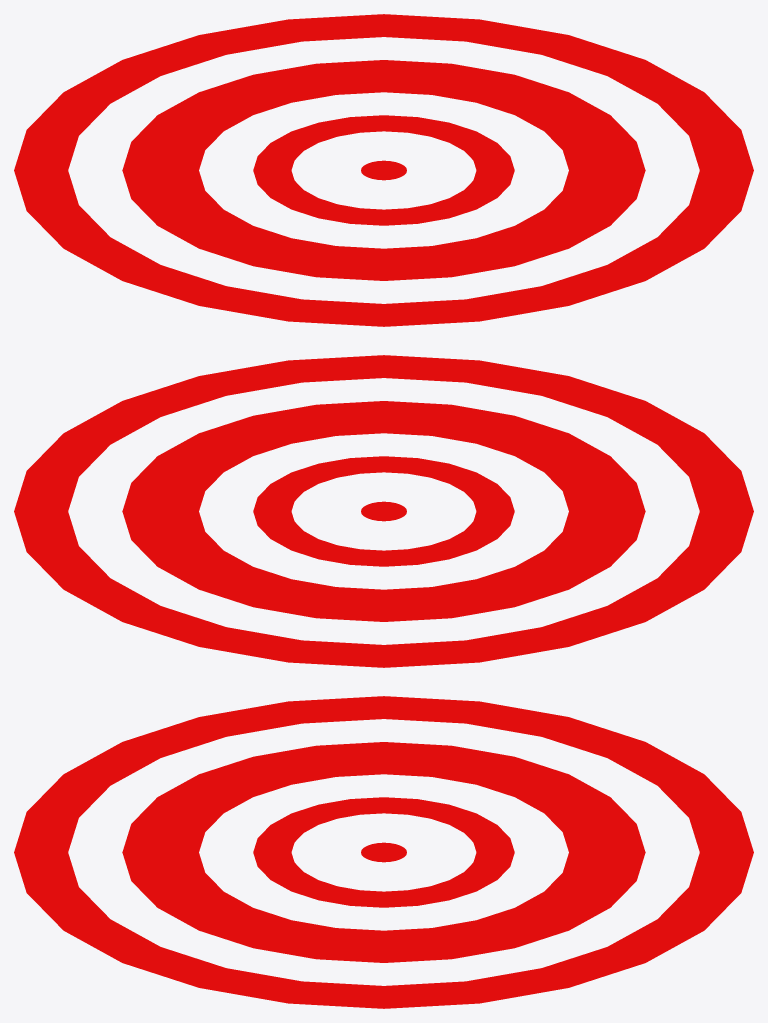
Rendered from target.dae.
3 renders of one model, top to bottom at view 1: azimuth 30°, elevation 25°; view 2: azimuth 150°, elevation 25°; view 3: azimuth 270°, elevation 25°, orthographic.
Parts seen in each view (by area): view 1: Target (×4); view 2: Target (×4); view 3: Target (×4).
Part boxes in pixels (left/top/right/bottom): Target (×4): left=14, top=14, right=753, bottom=326; Target (×4): left=14, top=355, right=753, bottom=667; Target (×4): left=14, top=696, right=753, bottom=1008.
Bounding box in the file's own units: 1771 × 1771 × 0.
